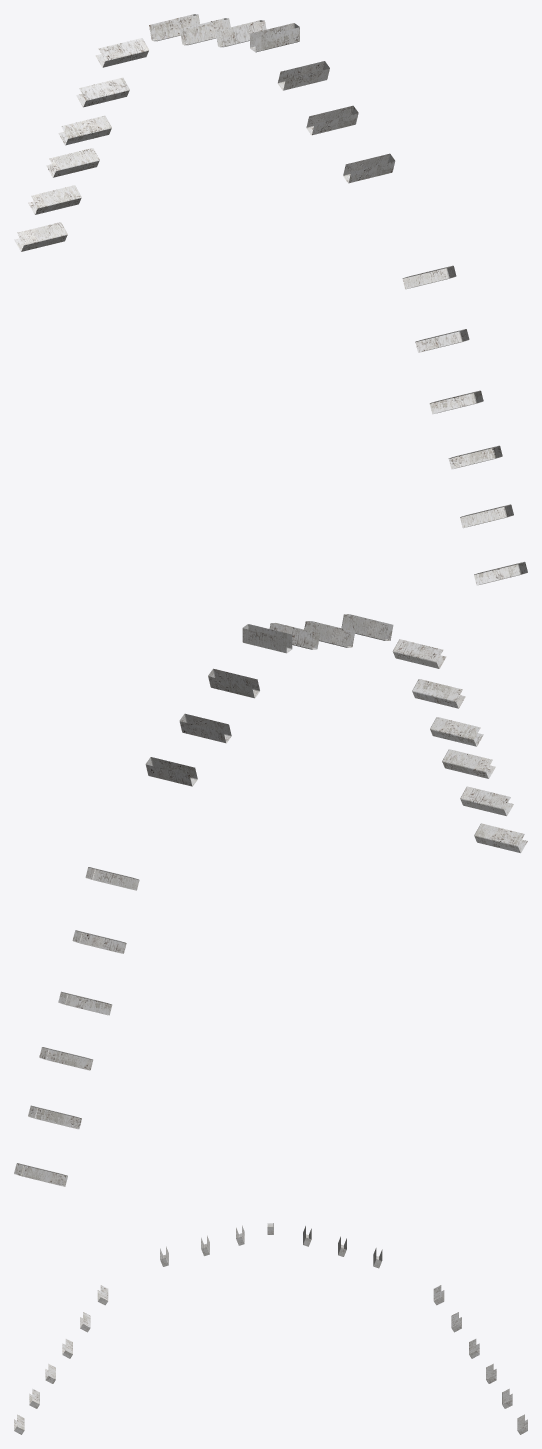
The model's file is barnOuterTimbers_01.FBX.
The picture shows the model from 3 angles, top to bottom: view 1: azimuth 30°, elevation 25°; view 2: azimuth 150°, elevation 25°; view 3: azimuth 270°, elevation 25°; orthographic projection. The views are drawn at different scales.
Visible parts, largest first — view 1: barnOuterTimbers_01; view 2: barnOuterTimbers_01; view 3: barnOuterTimbers_01.
Part boxes in pixels (x1,y1,x2,y2): barnOuterTimbers_01: [14, 14, 527, 585]; barnOuterTimbers_01: [14, 614, 527, 1186]; barnOuterTimbers_01: [14, 1223, 527, 1434].
Size of the model in its own units: 70.48 by 521 by 1161.
